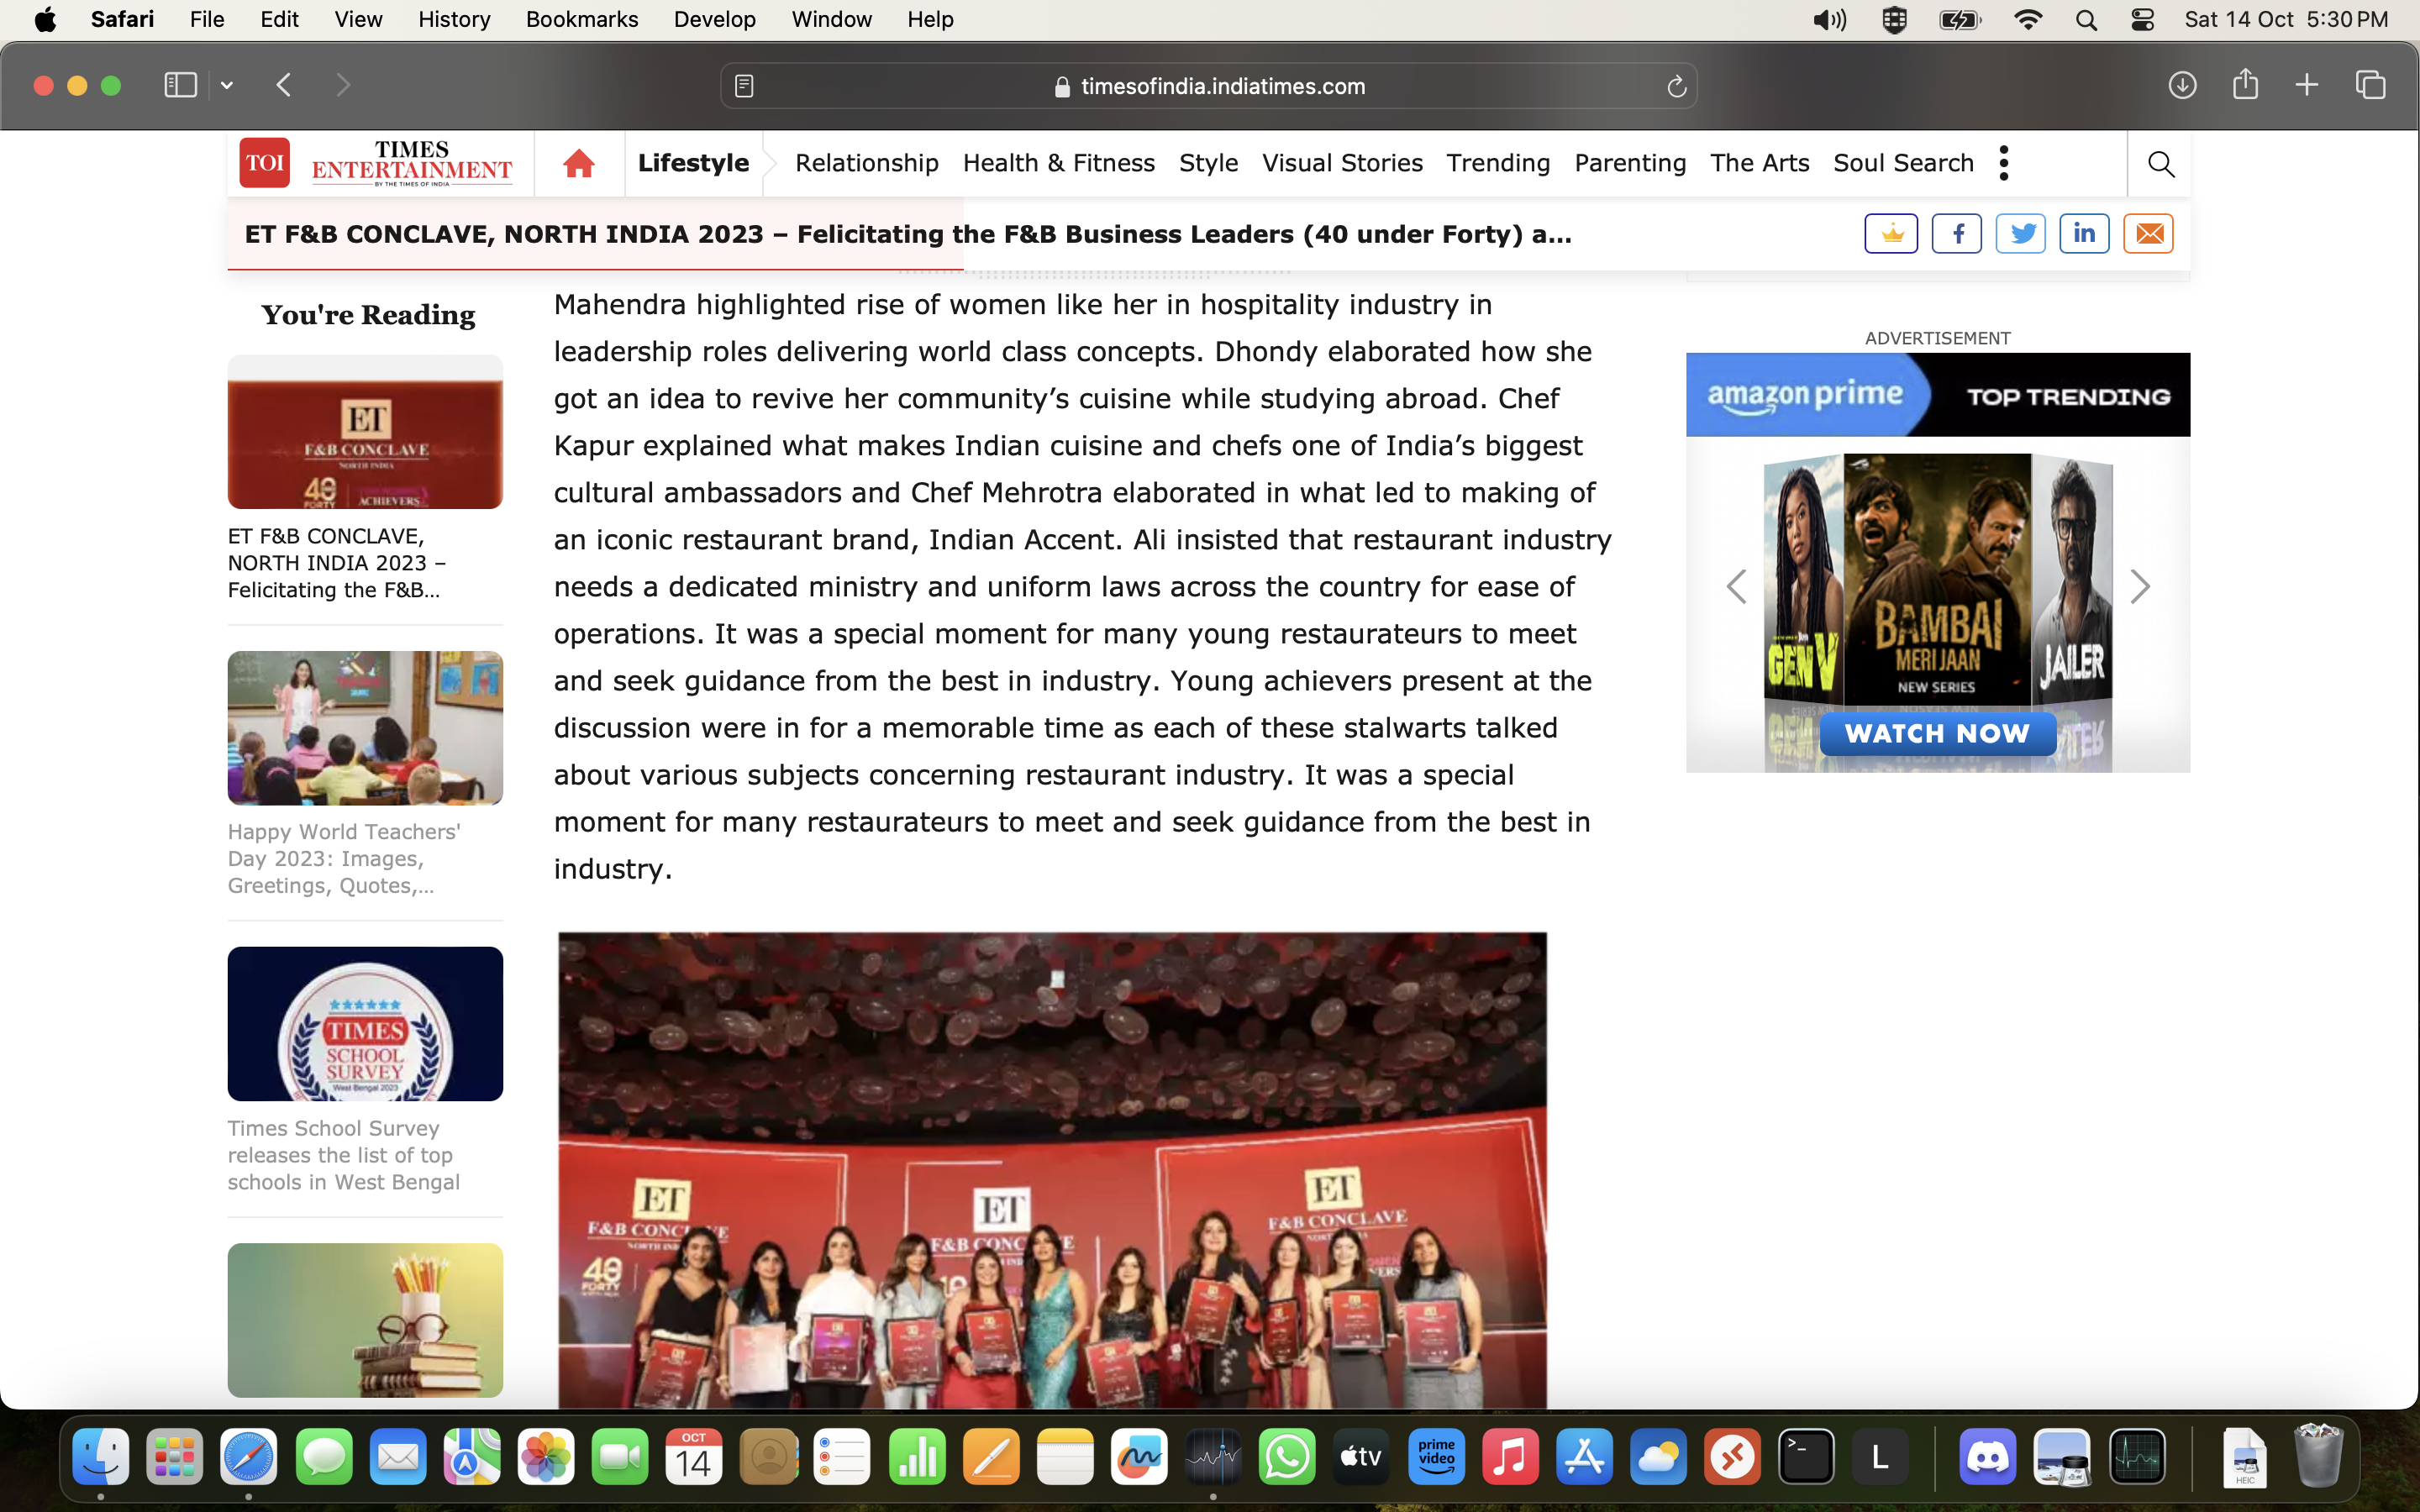Image: (552, 932, 1544, 1416), (1760, 442, 2113, 772), (230, 946, 491, 1097), (237, 1247, 504, 1395), (233, 368, 504, 510), (233, 655, 500, 800)
Paragraph: (542, 280, 1605, 902), (216, 216, 1578, 273), (213, 1115, 484, 1214), (213, 807, 484, 902), (216, 510, 450, 617), (237, 287, 507, 354), (1693, 357, 1913, 432), (1948, 364, 2192, 422), (960, 145, 1159, 181), (789, 145, 957, 185), (620, 148, 768, 181)
